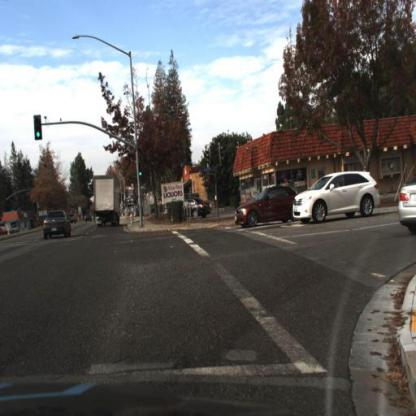car: (285, 157, 386, 236), (231, 180, 294, 232), (180, 192, 216, 223), (399, 177, 416, 239), (44, 209, 72, 243), (80, 208, 94, 228)
trafficLight-Green: (130, 166, 147, 189), (138, 165, 145, 182)
truck: (90, 173, 124, 238)
